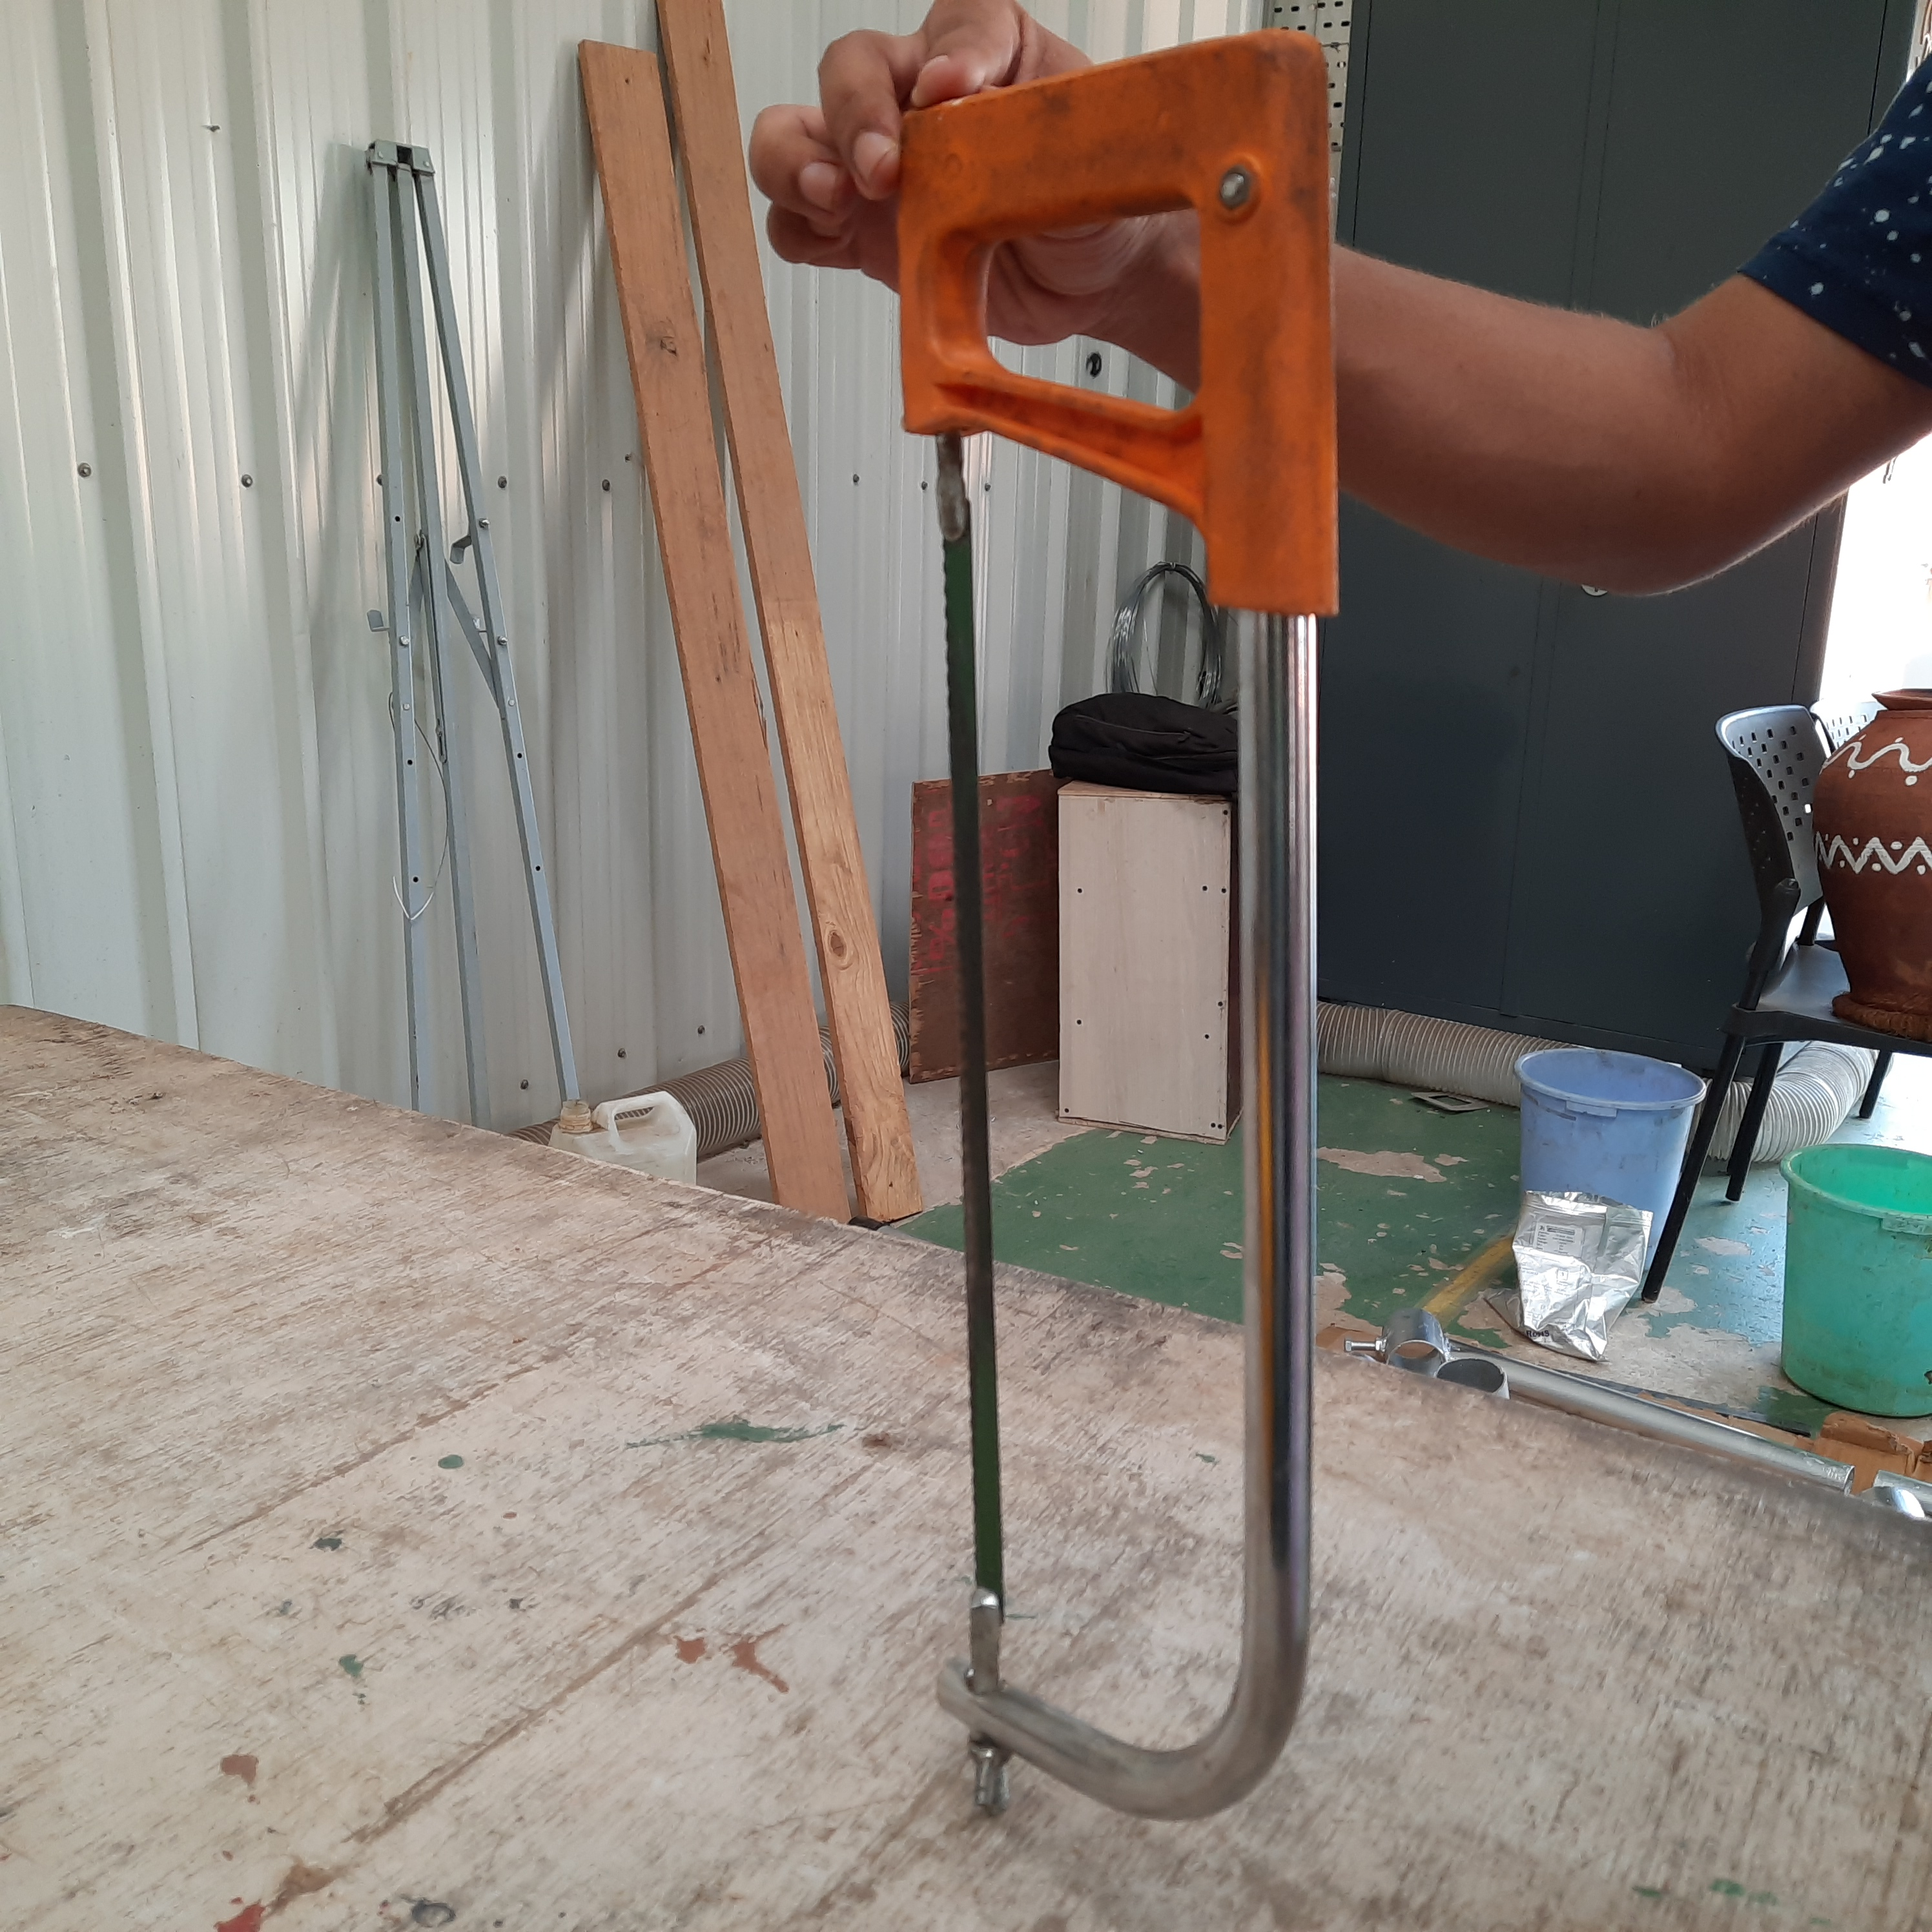Hexaframe: (870, 44, 1417, 1829)
